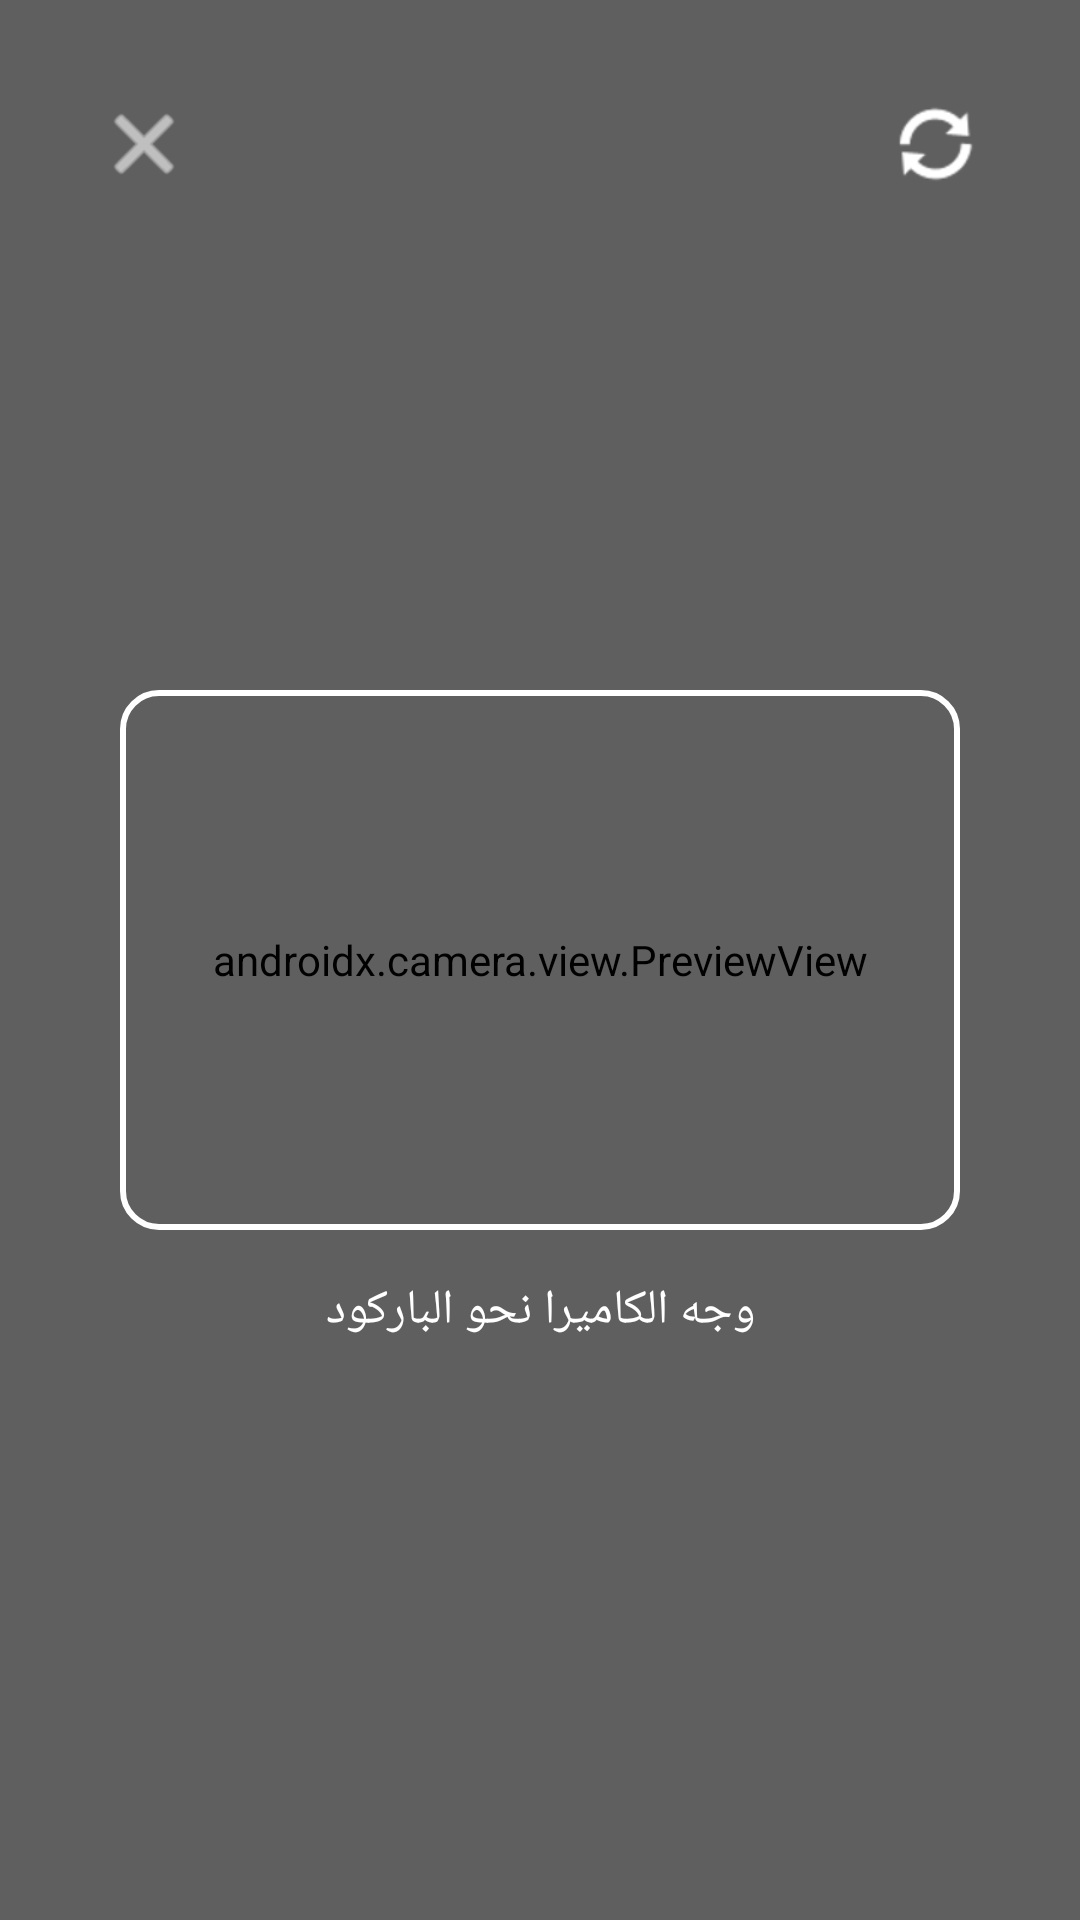

Icon bounding boxes for this 1080px x 1920px phone screenshot, format bbox=(x1, y1, x2, y2):
إغلاق: bbox=(114, 114, 174, 174)
تبديل الكاميرا: bbox=(899, 108, 972, 180)
